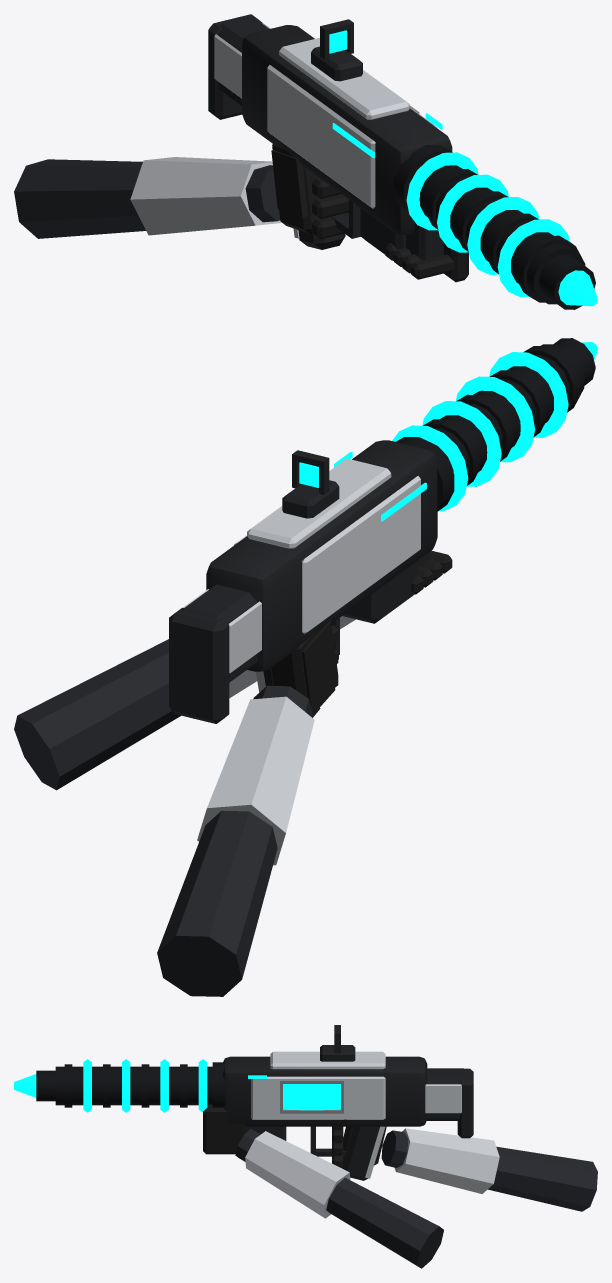
Rendered from gun_pulse_low.glb.
3 renders of one model, top to bottom at view 1: azimuth 30°, elevation 25°; view 2: azimuth 150°, elevation 25°; view 3: azimuth 270°, elevation 25°, orthographic. The views are drawn at different scales.
Parts seen in each view (by area): view 1: Body, Armor_Plates, Forearm_R, Barrel_Shroud, Gauntlet_R, Glove_R, Glow_Accents, Glove_L, Ring_2, Ring_4, Ring_1, Ring_3; view 2: Body, Forearm_R, Armor_Plates, Forearm_L, Gauntlet_R, Barrel_Shroud, Glove_R, Ring_2, Ring_3, Ring_4, Ring_1, Glow_Accents (+1 smaller); view 3: Body, Armor_Plates, Barrel_Shroud, Forearm_R, Forearm_L, Gauntlet_R, Gauntlet_L, Glove_L, Screen, Glove_R, Screen_Bezel, Ring_1 (+4 smaller).
Part boxes in pixels (x1=…): Body: x1=208, y1=14, x2=452, y2=260; Armor_Plates: x1=214, y1=23, x2=437, y2=238; Forearm_R: x1=14, y1=159, x2=279, y2=238; Barrel_Shroud: x1=394, y1=144, x2=595, y2=309; Gauntlet_R: x1=130, y1=157, x2=281, y2=235; Glove_R: x1=271, y1=143, x2=348, y2=239; Glow_Accents: x1=329, y1=30, x2=597, y2=306; Glove_L: x1=385, y1=243, x2=468, y2=282; Ring_2: x1=437, y1=174, x2=508, y2=252; Ring_4: x1=497, y1=219, x2=569, y2=297; Ring_1: x1=406, y1=152, x2=478, y2=230; Ring_3: x1=467, y1=197, x2=539, y2=274; Body: x1=169, y1=440, x2=437, y2=723; Forearm_R: x1=157, y1=685, x2=313, y2=996; Armor_Plates: x1=183, y1=458, x2=420, y2=692; Forearm_L: x1=14, y1=639, x2=180, y2=790; Gauntlet_R: x1=197, y1=696, x2=314, y2=865; Barrel_Shroud: x1=396, y1=338, x2=595, y2=511; Glove_R: x1=270, y1=621, x2=338, y2=714; Ring_2: x1=422, y1=401, x2=501, y2=486; Ring_3: x1=456, y1=376, x2=535, y2=462; Ring_4: x1=489, y1=352, x2=568, y2=437; Ring_1: x1=392, y1=425, x2=468, y2=511; Glow_Accents: x1=299, y1=342, x2=597, y2=521; Body: x1=222, y1=1025, x2=473, y2=1180; Armor_Plates: x1=251, y1=1051, x2=461, y2=1178; Barrel_Shroud: x1=36, y1=1062, x2=225, y2=1107; Forearm_R: x1=381, y1=1130, x2=597, y2=1211; Forearm_L: x1=235, y1=1129, x2=443, y2=1268; Gauntlet_R: x1=394, y1=1128, x2=499, y2=1193; Gauntlet_L: x1=245, y1=1131, x2=350, y2=1218; Glove_L: x1=203, y1=1105, x2=247, y2=1154; Screen: x1=283, y1=1084, x2=340, y2=1110; Glove_R: x1=332, y1=1119, x2=386, y2=1167; Screen_Bezel: x1=280, y1=1080, x2=343, y2=1113; Ring_1: x1=198, y1=1059, x2=207, y2=1112.
Bounding box in the file's own units: 0.3788 × 0.3583 × 0.9113.
